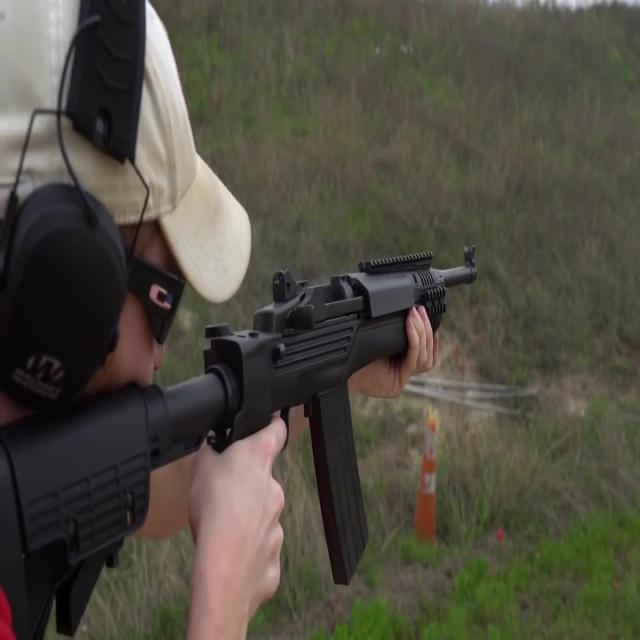Weapon: (0, 210, 617, 640)
